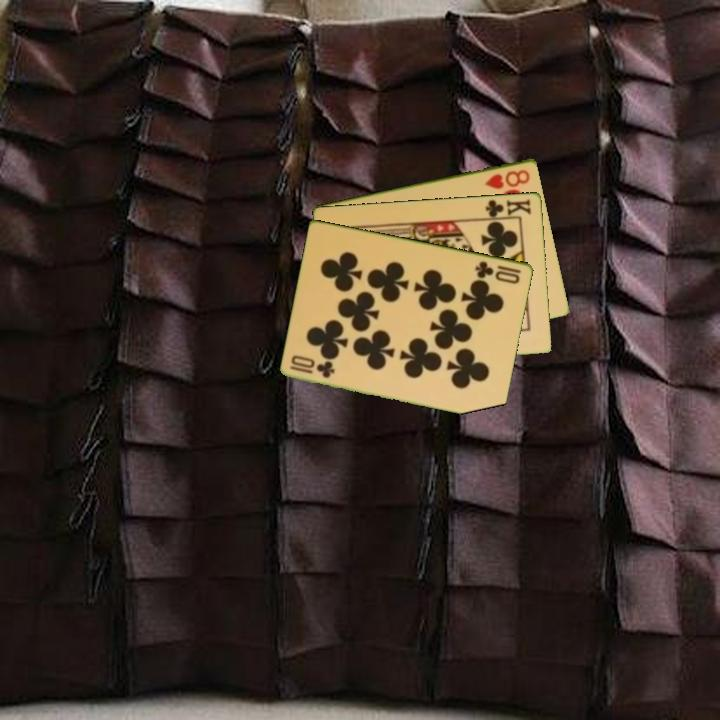10c: (472, 257, 524, 286), (286, 359, 338, 381)
8h: (481, 165, 533, 192)
Kc: (480, 196, 534, 221)
